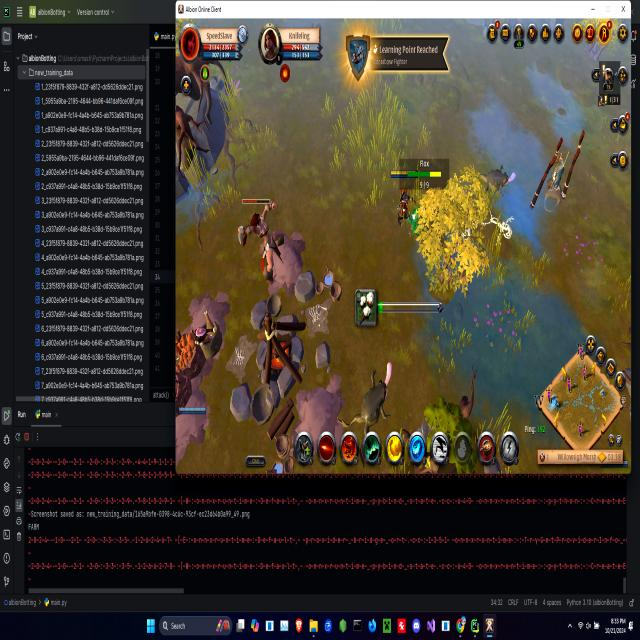hide: (399, 198, 435, 235)
ore: (232, 190, 301, 289)
red: (385, 164, 420, 230)
